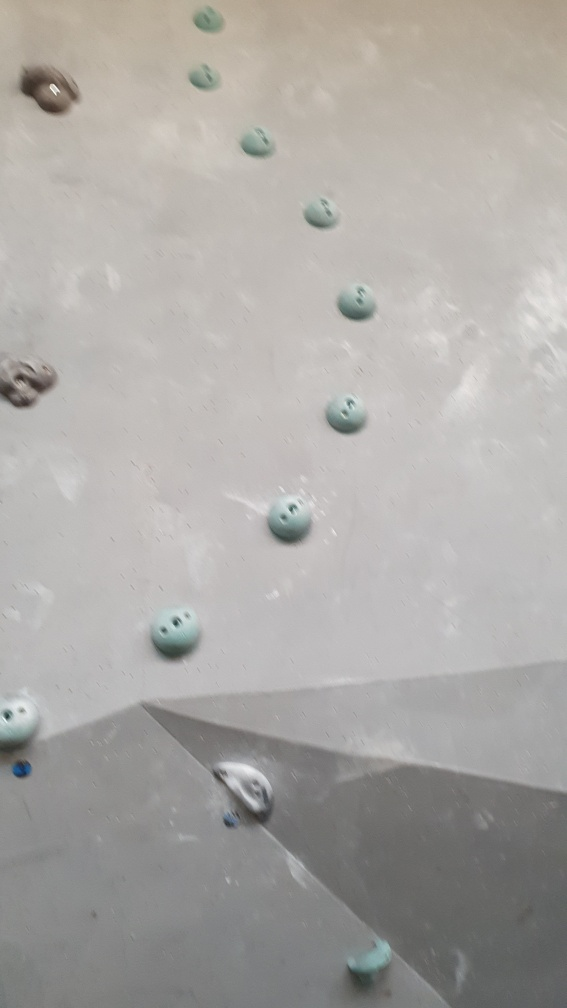Hand Start: (221, 807, 246, 834), (10, 759, 35, 784)
Jug: (15, 59, 86, 122), (1, 349, 59, 413), (344, 934, 400, 991)
Sloper: (148, 599, 205, 665), (262, 492, 320, 548), (319, 385, 376, 440), (1, 693, 45, 755), (333, 276, 380, 321), (300, 192, 344, 231), (185, 1, 227, 41), (237, 122, 277, 159), (186, 60, 225, 96)
